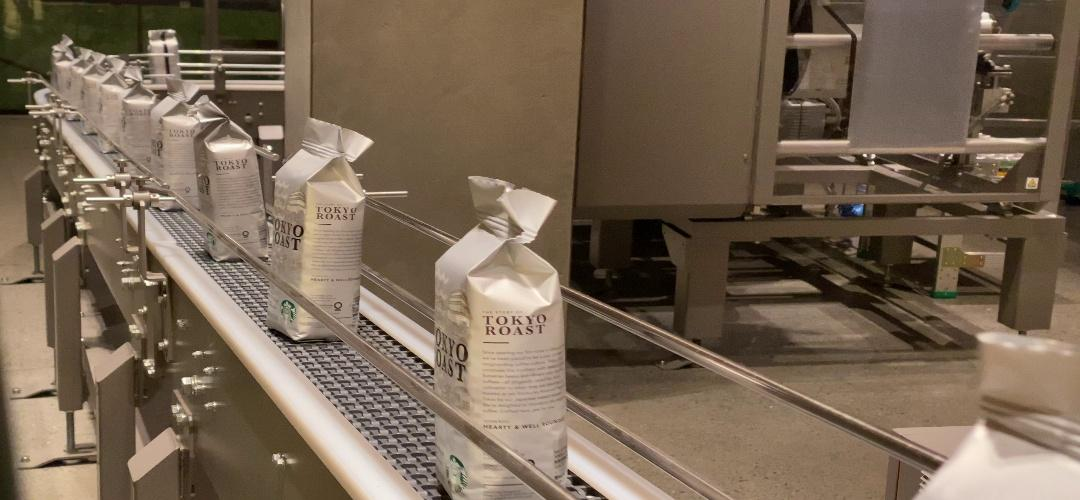conveyor: (433, 264, 564, 388), (274, 170, 364, 264), (193, 137, 262, 213)
